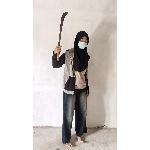Golok: (50, 10, 72, 64)
